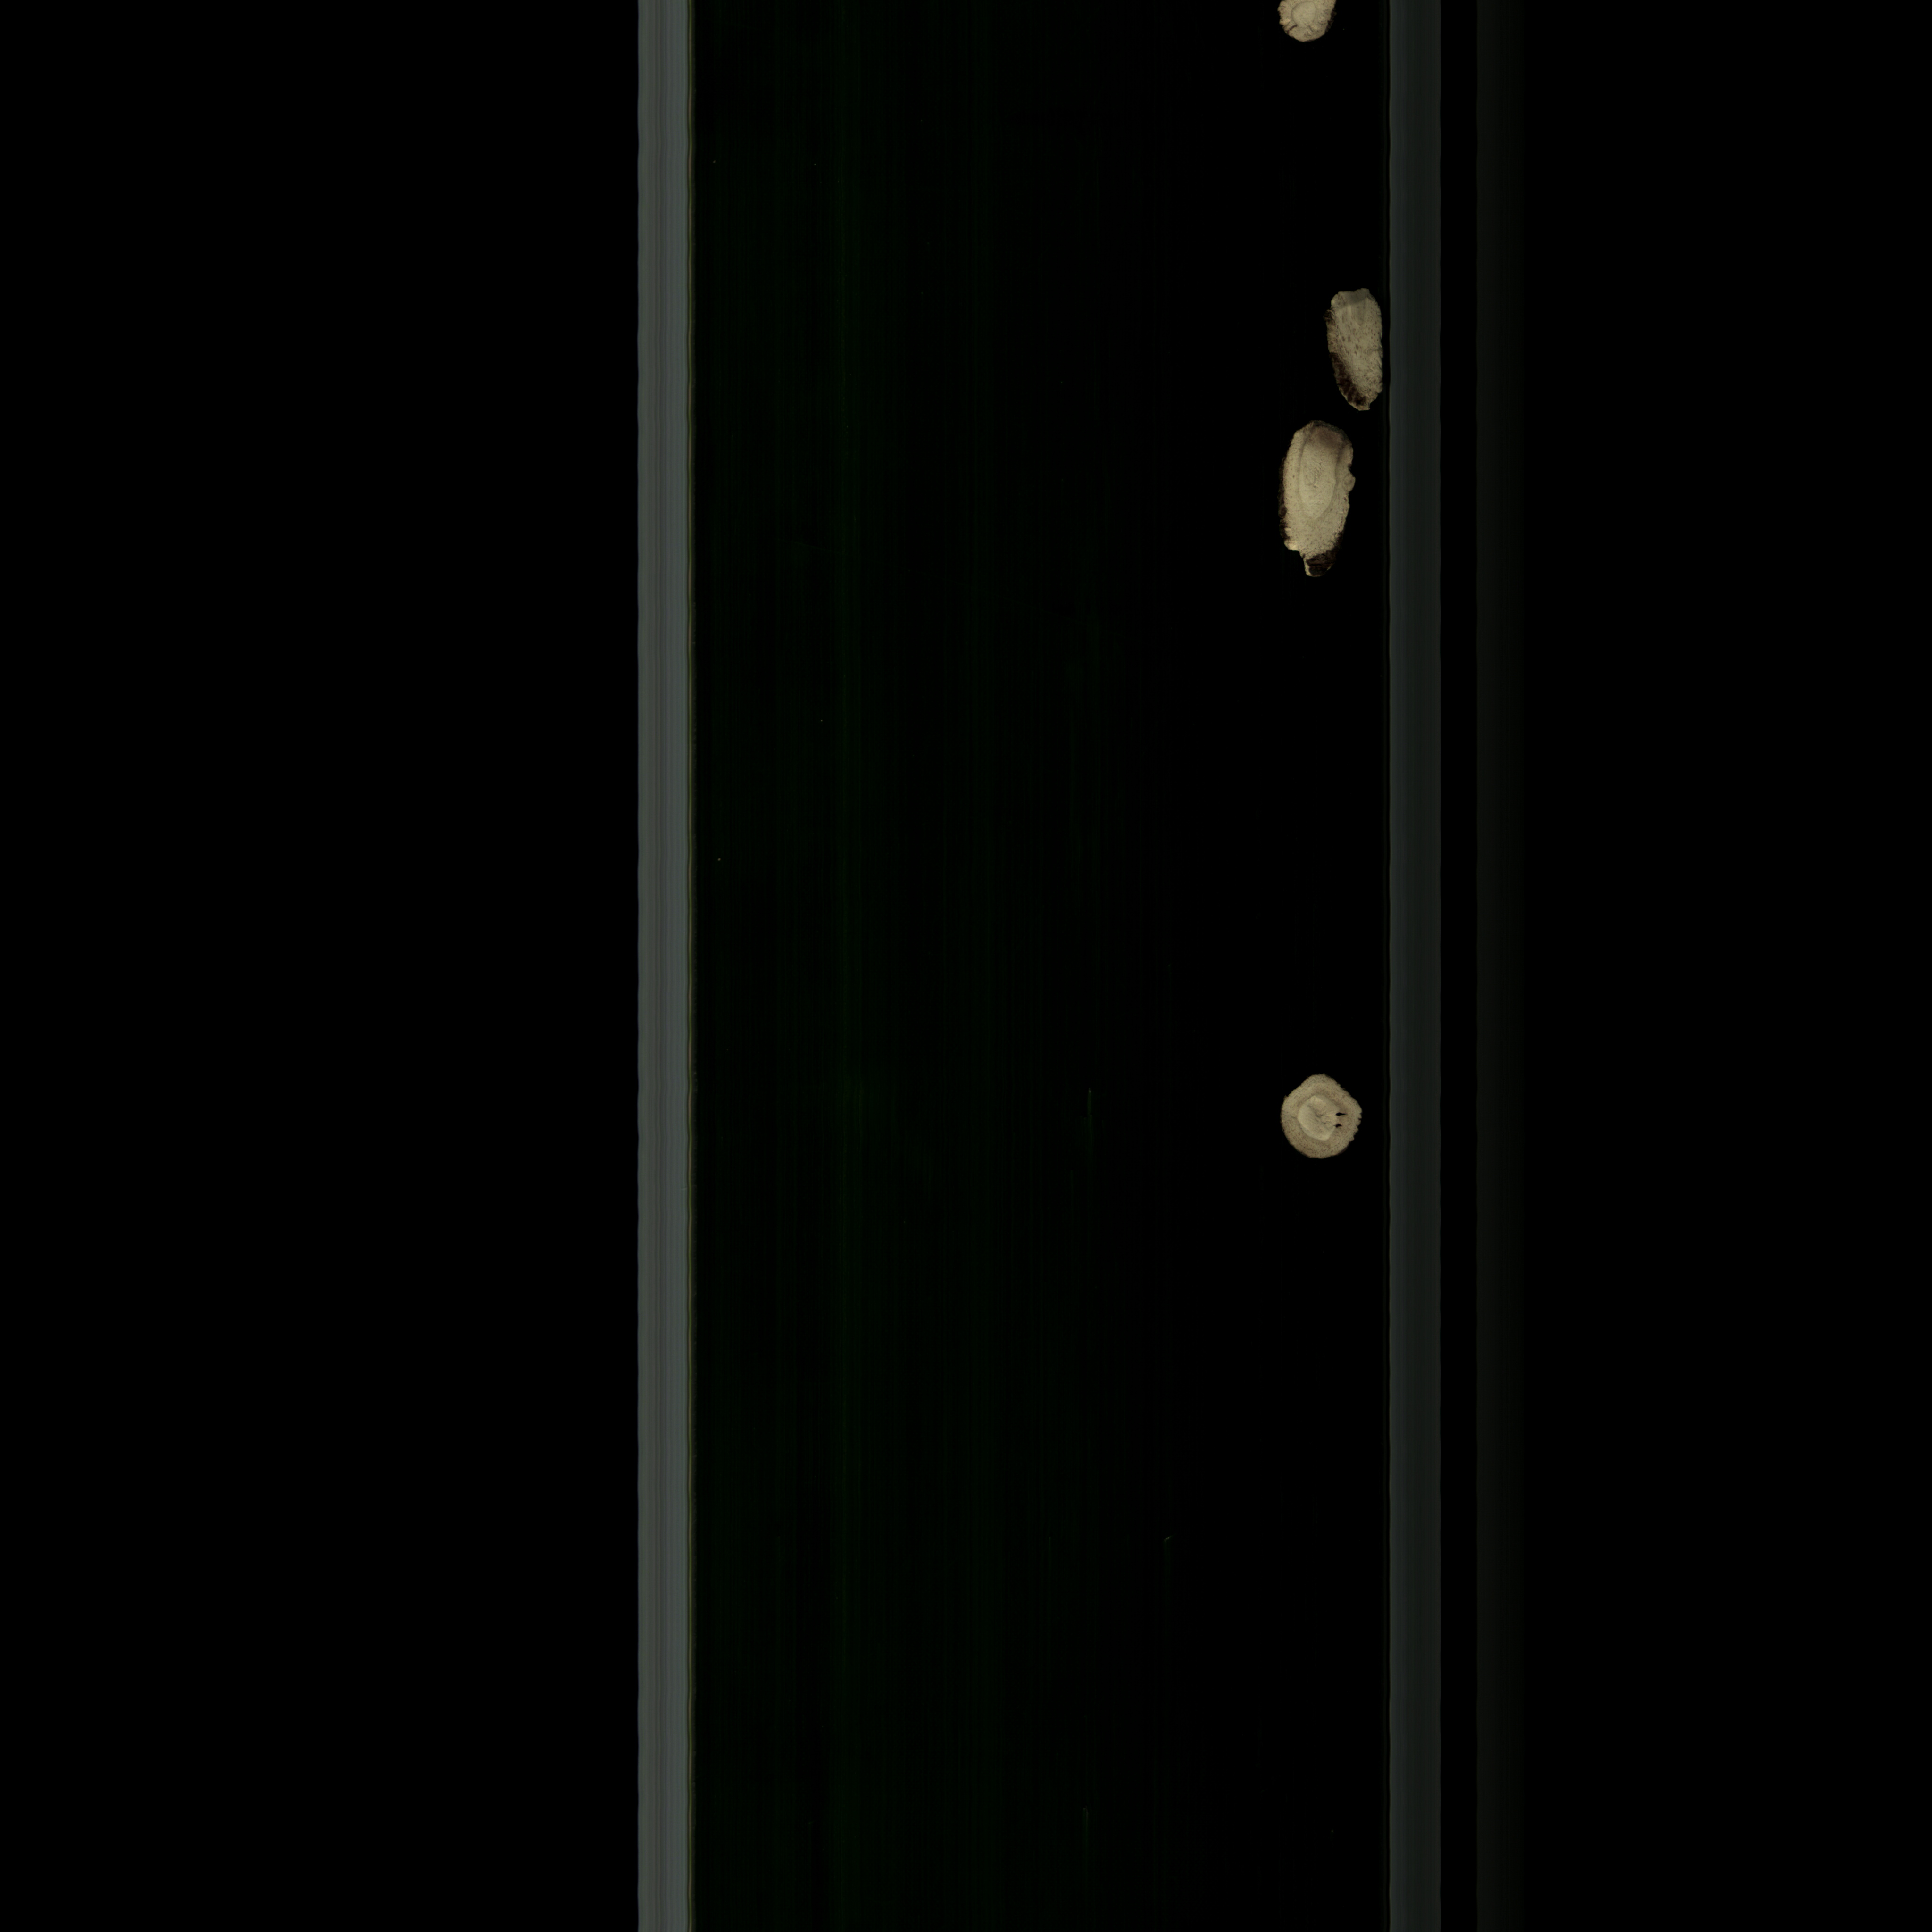distortion: (1277, 410, 1350, 591), (1311, 285, 1389, 416)
hole: (1265, 1067, 1366, 1166)
moldy: (1272, 0, 1343, 64)
